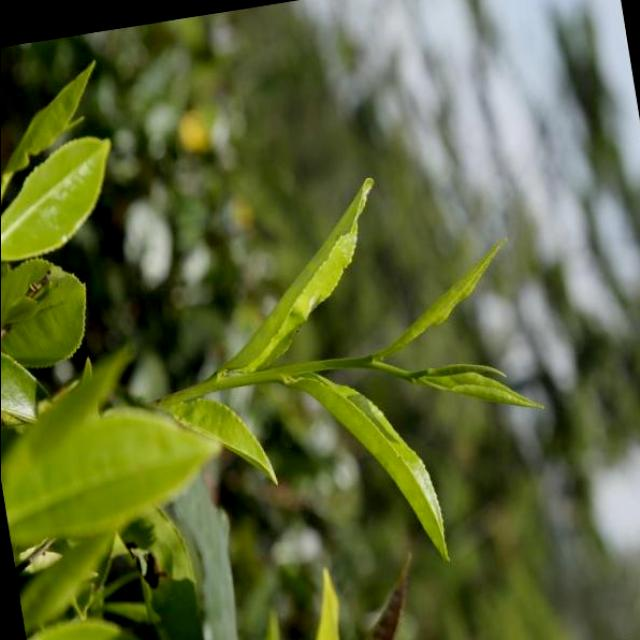Stem: (357, 357, 373, 368)
